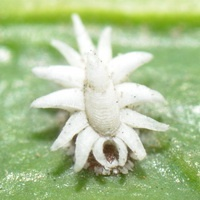insect: (31, 14, 168, 174)
